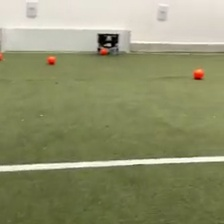ball: (193, 66, 204, 80), (47, 54, 56, 64), (100, 47, 107, 55)
goal: (1, 27, 132, 54)
robot: (96, 32, 121, 56)
